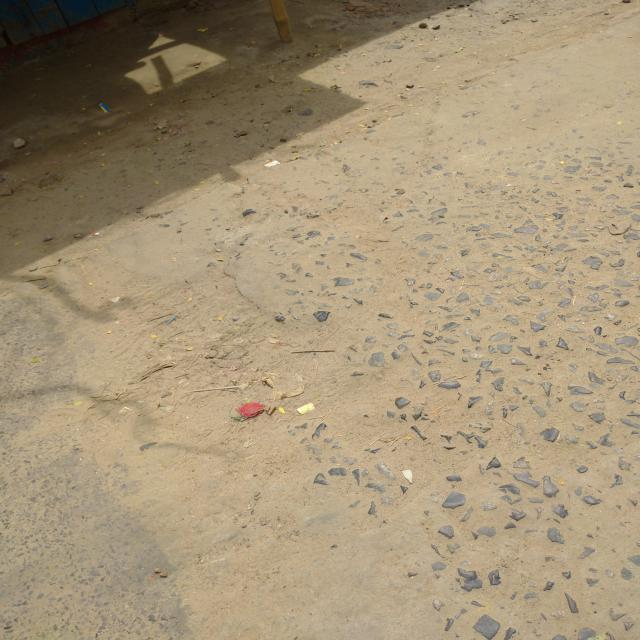potholes: (96, 261, 290, 462)
